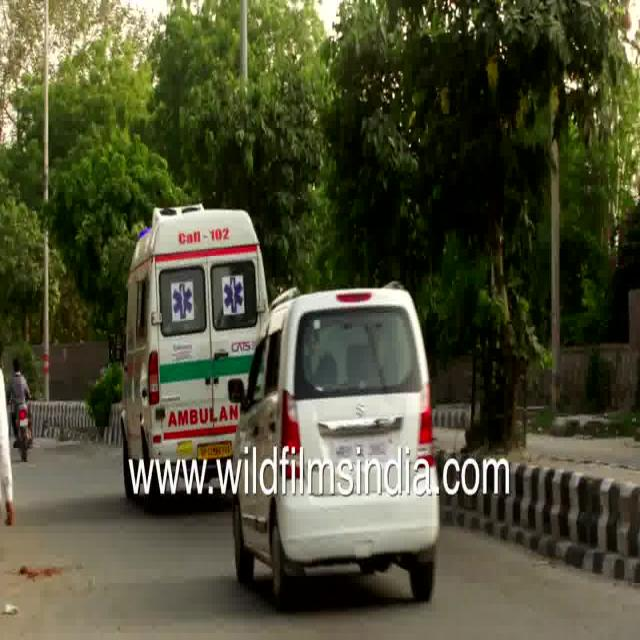ambulance: (119, 221, 262, 450)
